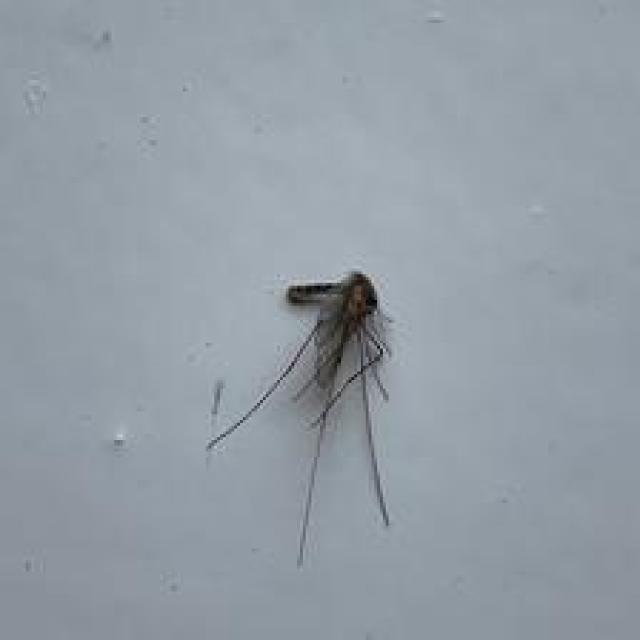Culex: (204, 267, 396, 567)
